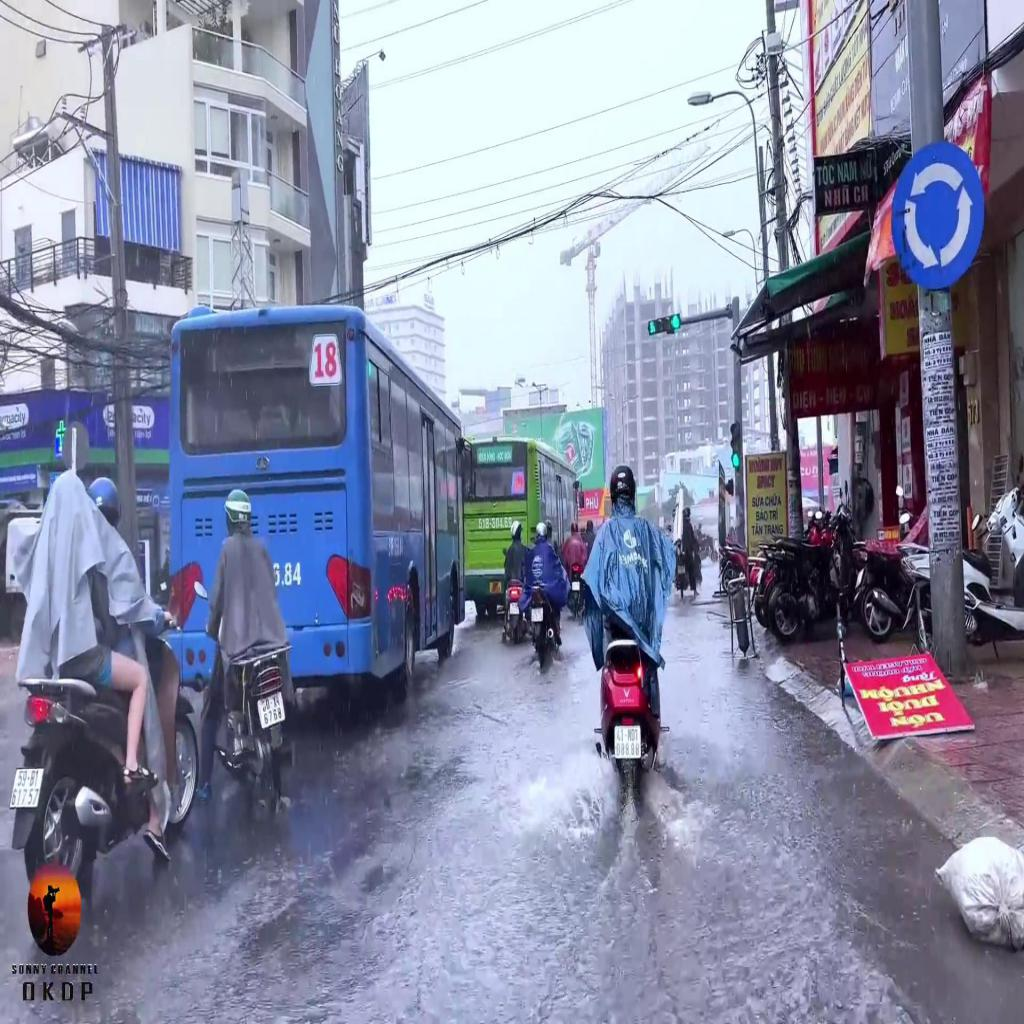noi_giao_nhau_chay_theo_vong: (892, 143, 986, 292)
